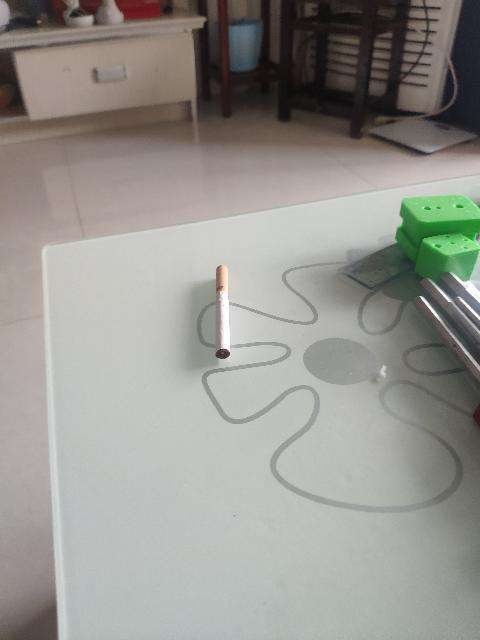Smoking: (214, 265, 232, 359)
